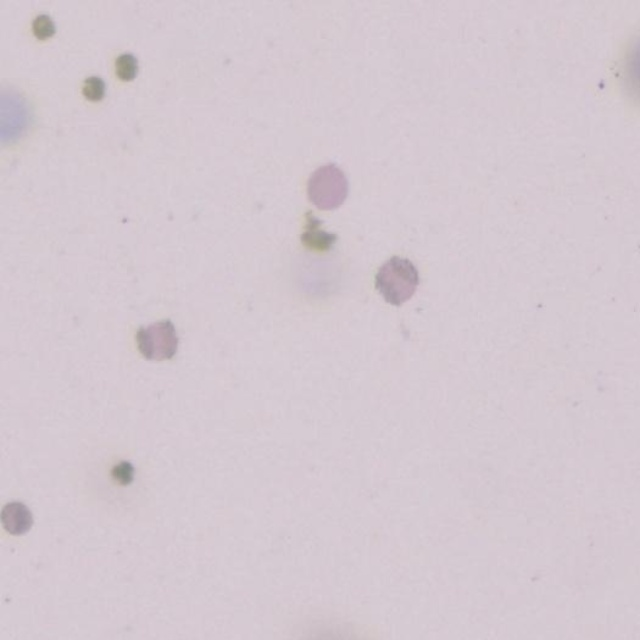intermediate: (375, 256, 418, 305), (307, 163, 347, 210), (137, 321, 178, 360)
non_viable: (0, 501, 32, 534), (30, 13, 55, 40), (115, 52, 138, 80), (82, 76, 105, 101), (111, 461, 134, 484)
